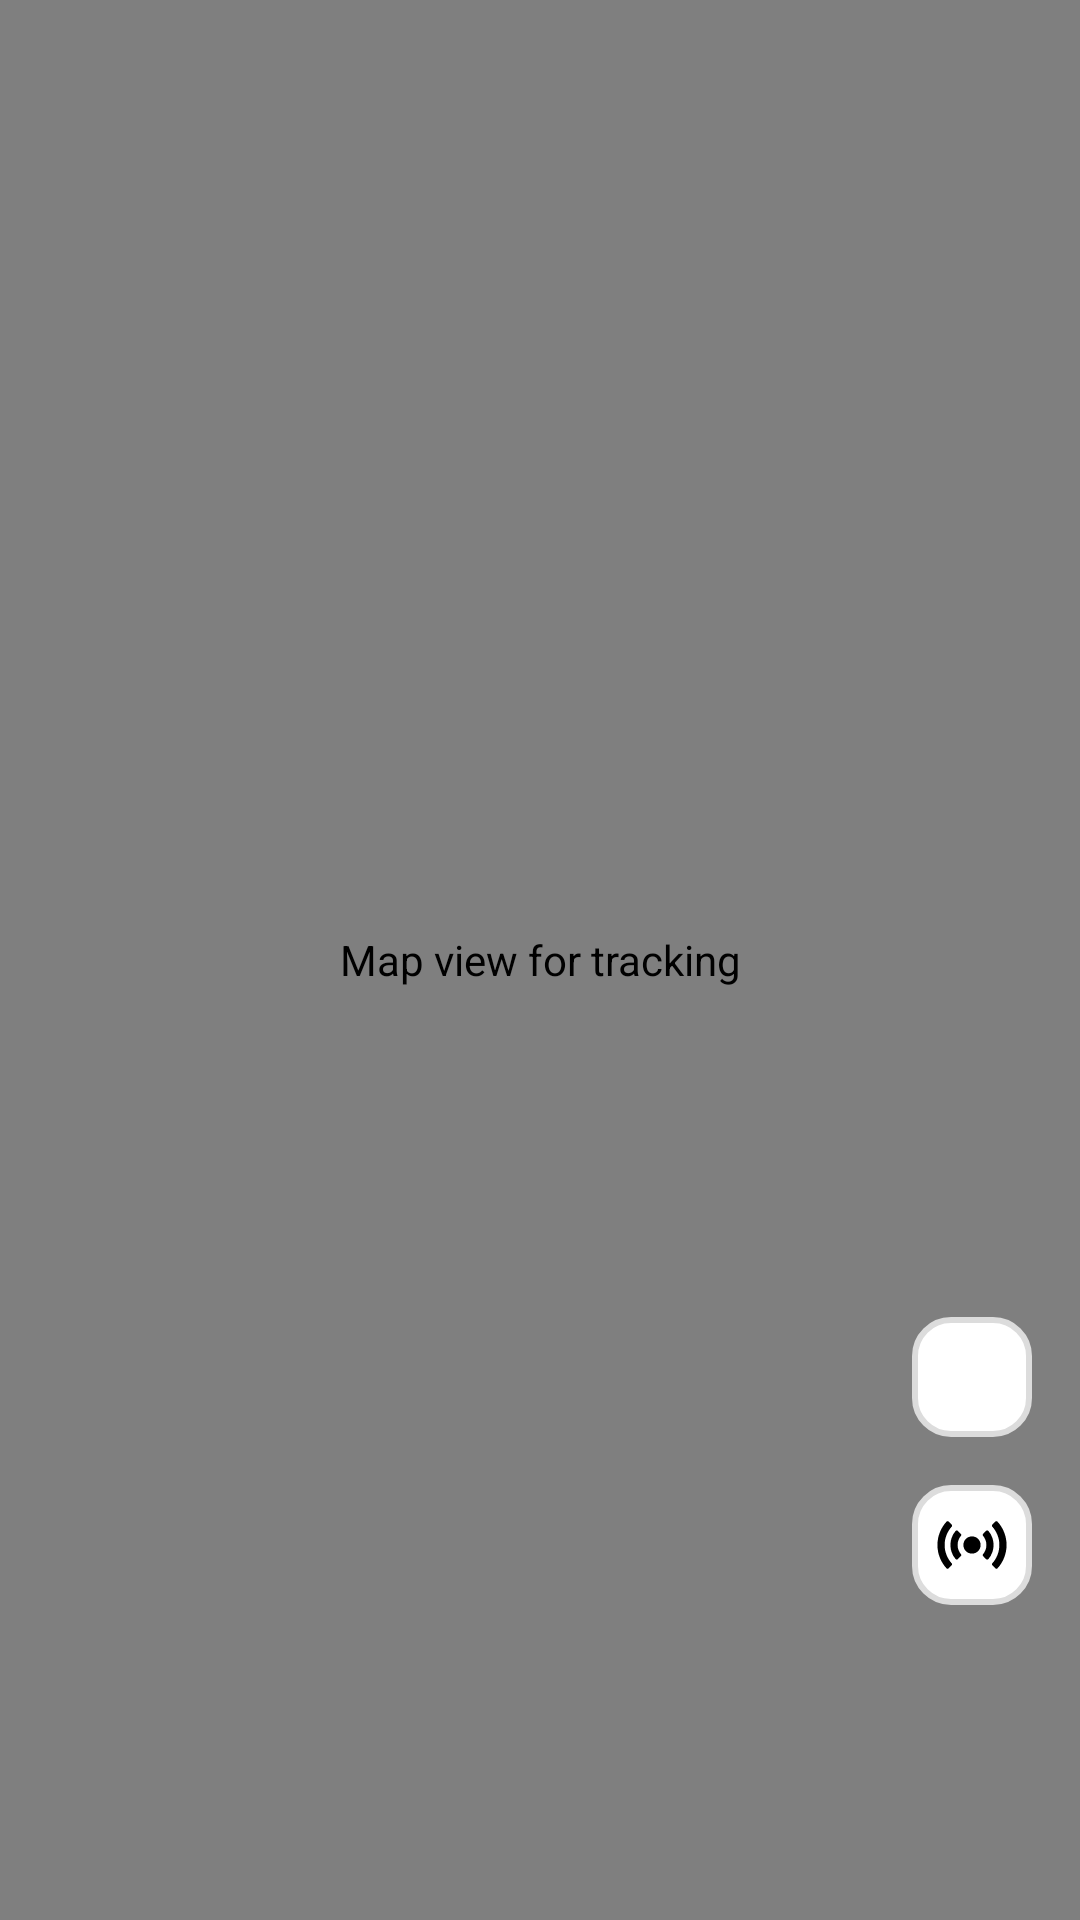

Point at icon controls on the screen. Image size 1080w x 1920h, points as (x,y).
live location: (972,1545)
